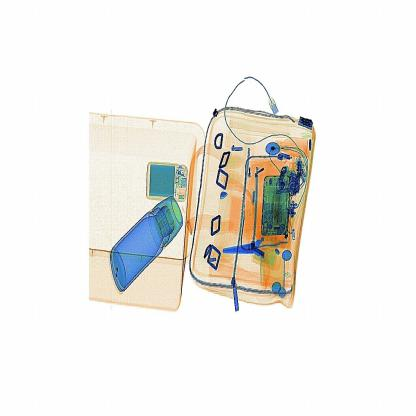gun: (218, 223, 296, 274)
